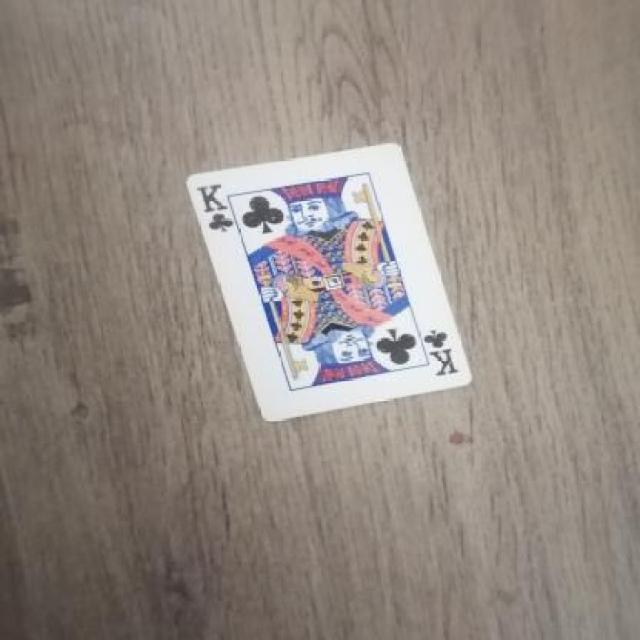KC: (403, 315, 474, 380), (186, 181, 242, 239)
